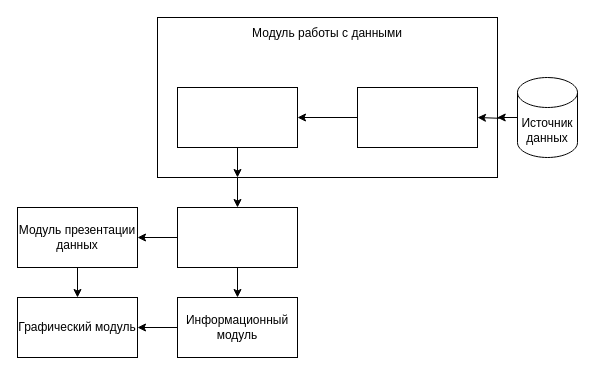
This 595x375 diagram has some shape labels left out. Here are the shapes that lost their labels. From the top down, the centre of each, then its label:
At (237,117): "Модуль подготовки данных".
At (417,117): "Модуль загрузки".
At (237,237): "Аналитическое ядро".
